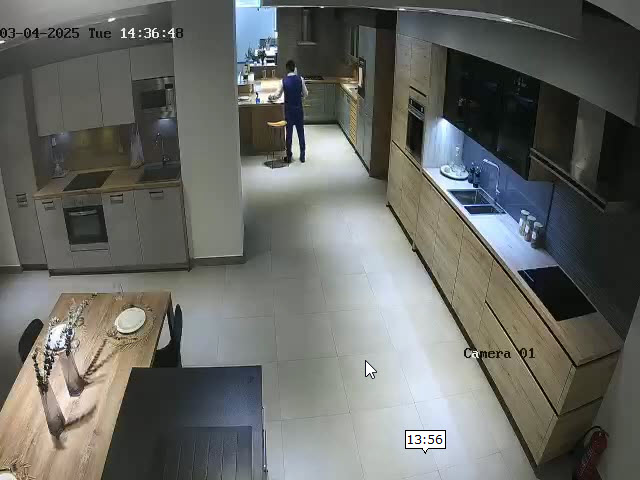employee: (267, 60, 308, 163)
